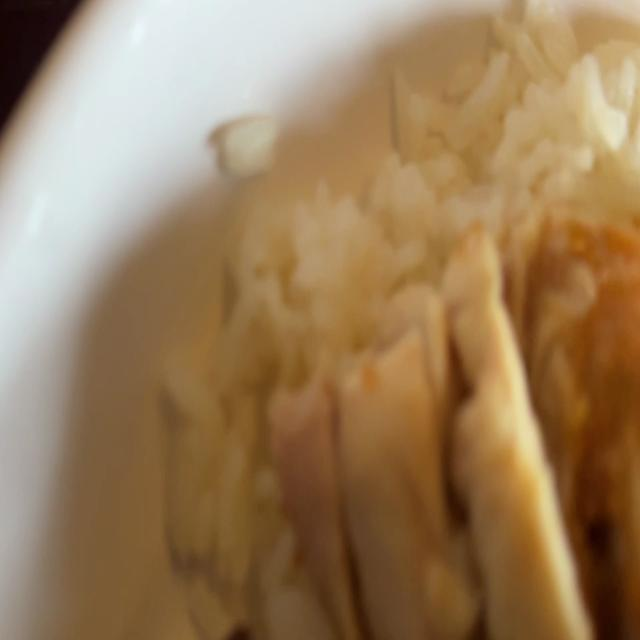chicken_rice: (276, 194, 640, 640)
